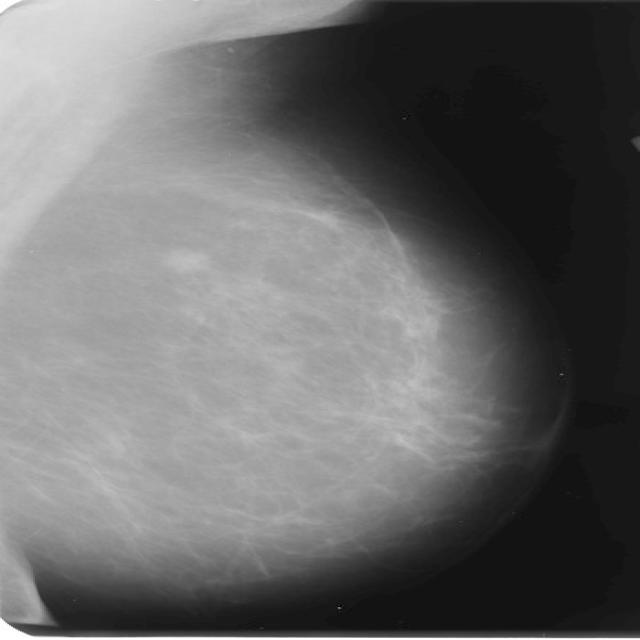tumour: (164, 248, 207, 272)
